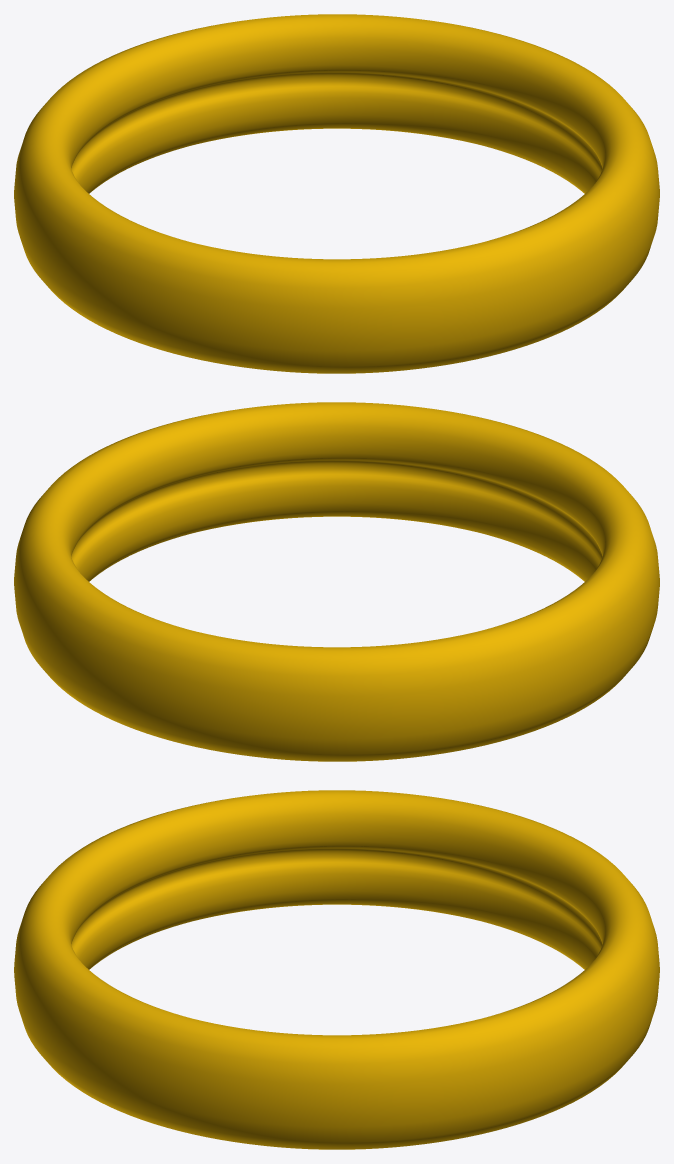
File: ring.glb
The picture shows the model from 3 angles, top to bottom: view 1: azimuth 30°, elevation 25°; view 2: azimuth 150°, elevation 25°; view 3: azimuth 270°, elevation 25°; orthographic projection.
Visible parts, largest first — view 1: Circle; view 2: Circle; view 3: Circle.
Part boxes in pixels (x1=…): Circle: x1=14, y1=14, x2=659, y2=373; Circle: x1=14, y1=402, x2=659, y2=761; Circle: x1=14, y1=790, x2=659, y2=1149.
Size of the model in its own units: 0.1 by 0.0188 by 0.1.
